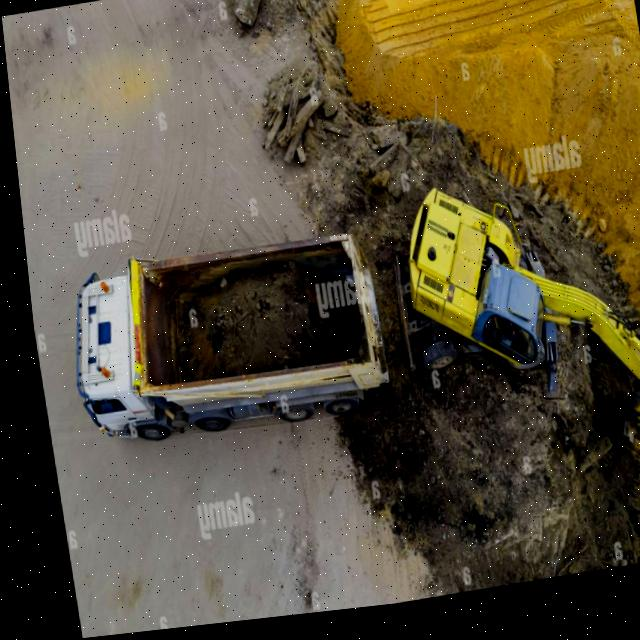truck: (60, 236, 377, 450)
